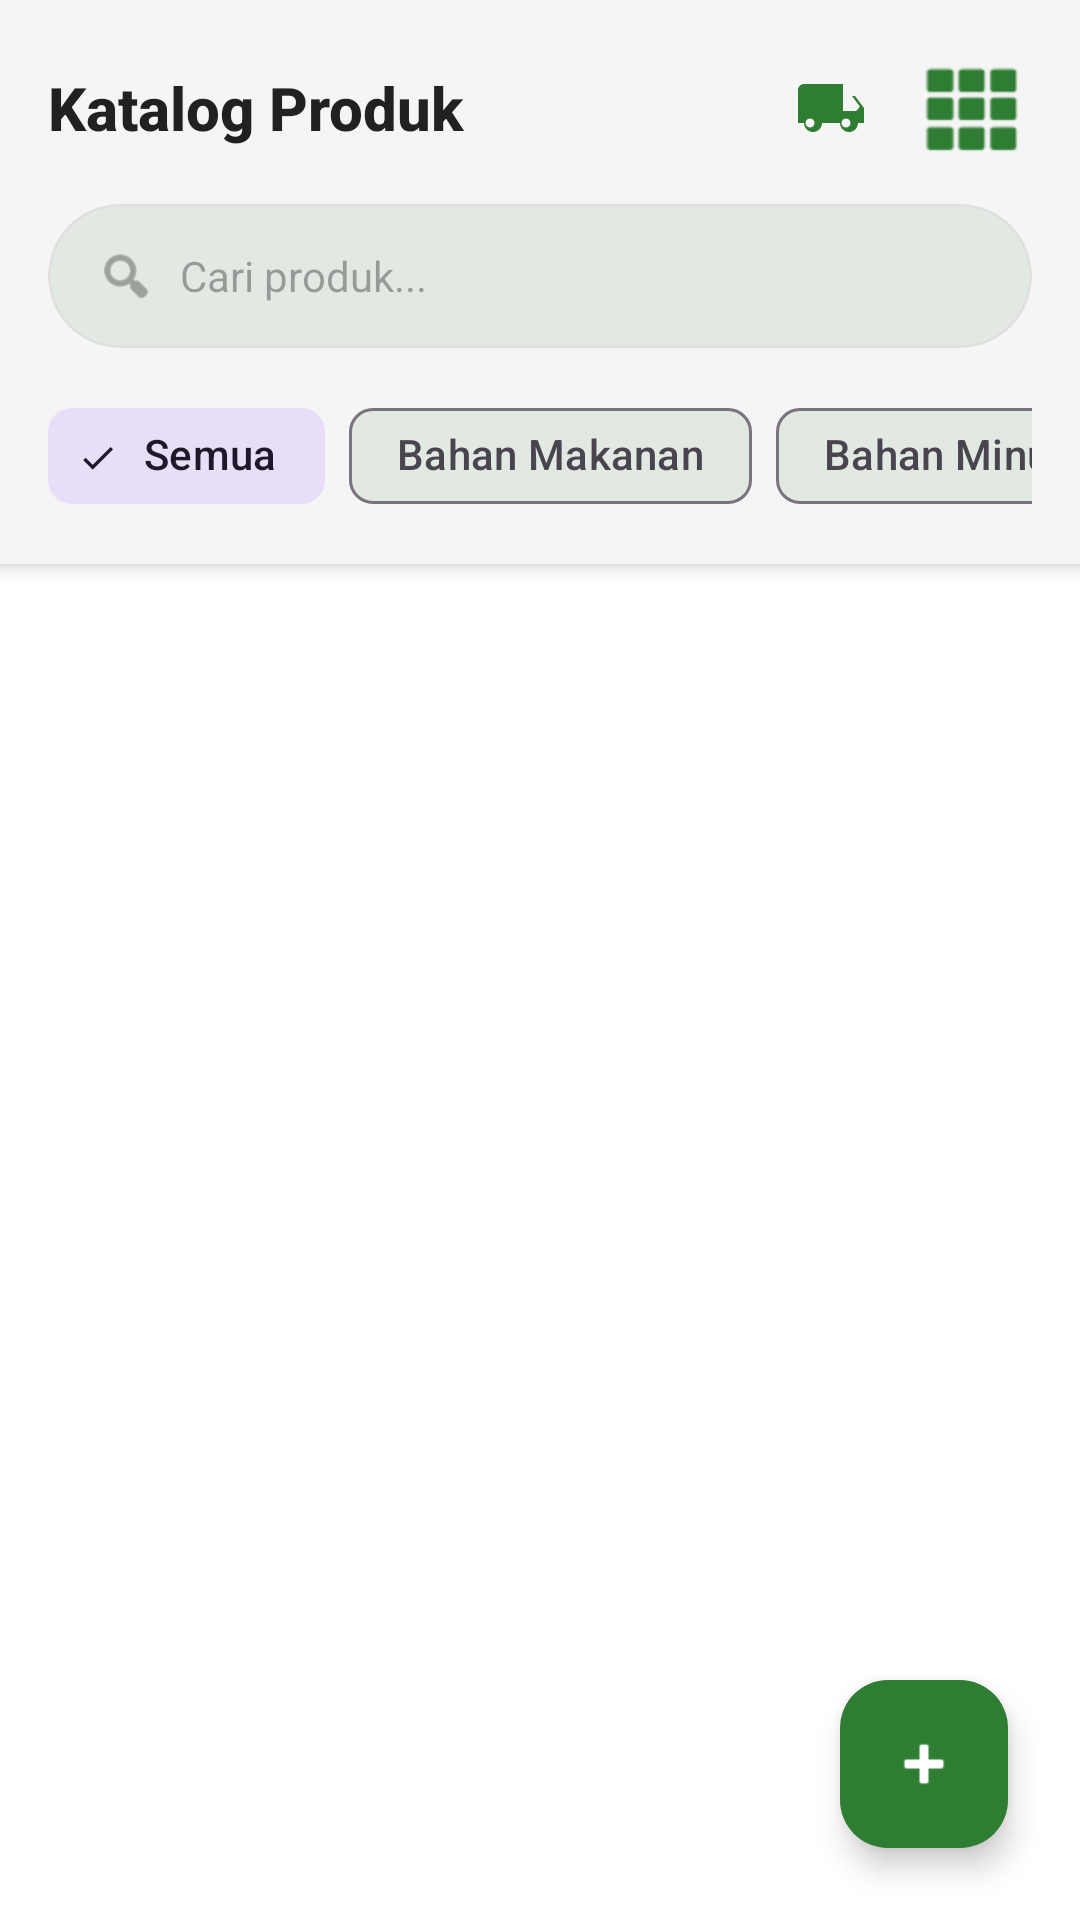

Where to tap for icons on this 1080px×1920px app screen, as (x=x, y=y):
search: (x=126, y=276)
Tambah Produk: (x=924, y=1764)
Toggle Layout: (x=971, y=109)
